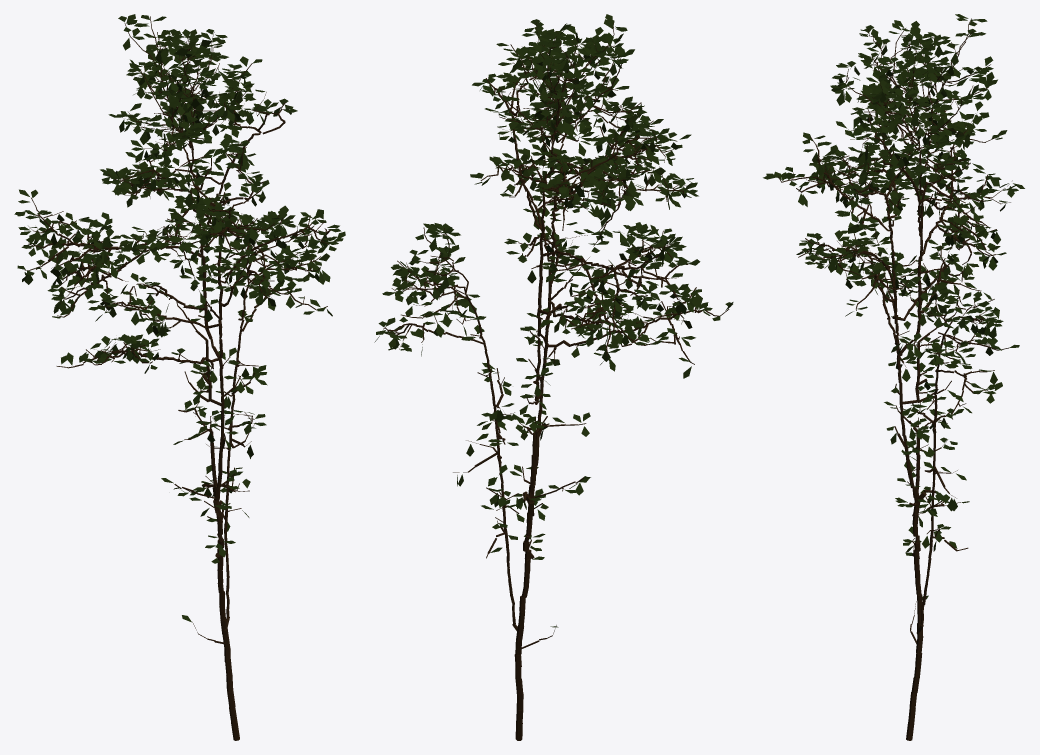
The model's file is tree_311.obj.
3 views of the same model, side by side, from view 1: azimuth 30°, elevation 25°; view 2: azimuth 150°, elevation 25°; view 3: azimuth 270°, elevation 25° (orthographic). The views are drawn at different scales.
Parts seen in each view (by area): view 1: Leaves, TrunkAndBranches; view 2: Leaves, TrunkAndBranches; view 3: Leaves, TrunkAndBranches.
Part boxes in pixels (x1=…): Leaves: x1=14, y1=14, x2=345, y2=622; TrunkAndBranches: x1=25, y1=16, x2=335, y2=740; Leaves: x1=374, y1=14, x2=733, y2=627; TrunkAndBranches: x1=383, y1=22, x2=729, y2=740; Leaves: x1=763, y1=14, x2=1024, y2=599; TrunkAndBranches: x1=778, y1=18, x2=1012, y2=740.
Bounding box in the file's own units: 6.96 × 15.37 × 5.31.
